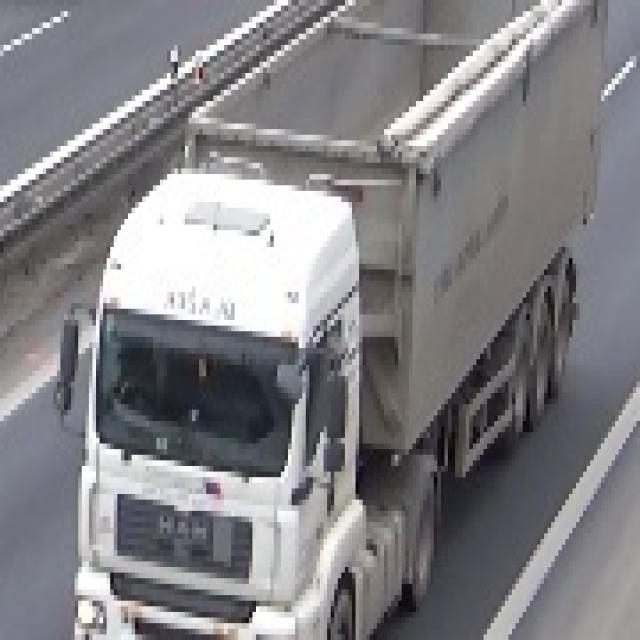TRUCK: (64, 7, 598, 636)
